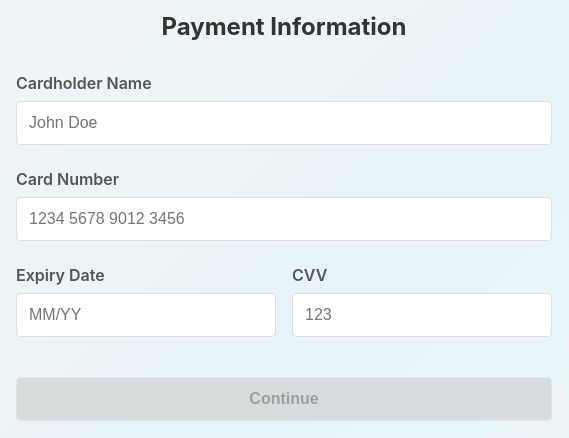
Scenario: CreditCardStep › should format card number input
Type "1234abcd5678" into the field labelled "Card Number" at (284, 219), box [16,197,552,241]
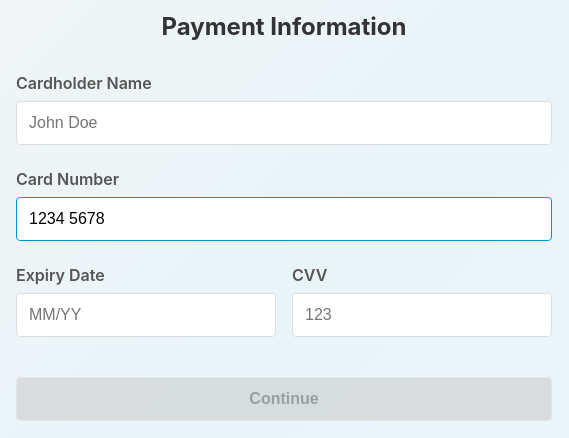
Expected: the field labelled "Card Number" holds "1234 5678", [16,197,552,241]
